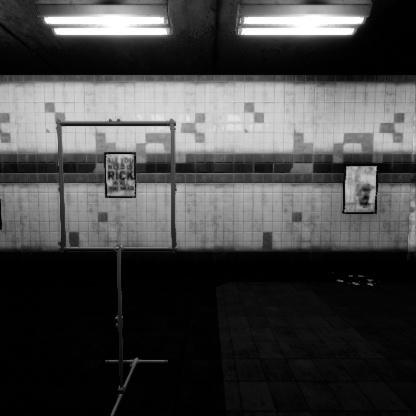gate: (57, 163, 187, 296)
